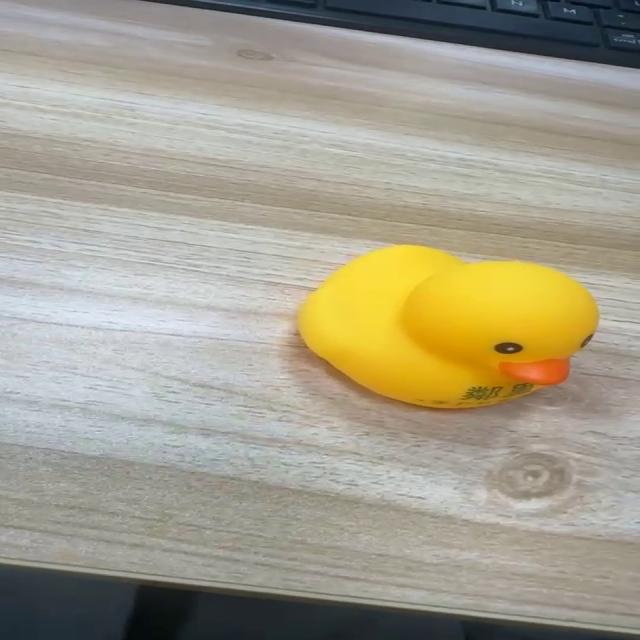yellow_duck: (294, 243, 600, 410)
